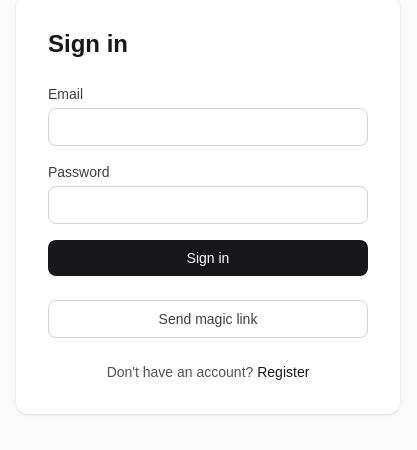
it: LoginPage › displays a form-level error when sign-in fails
Type "alice@example.com" into the field labelled "Email" at (208, 127), box [48,108,368,146]
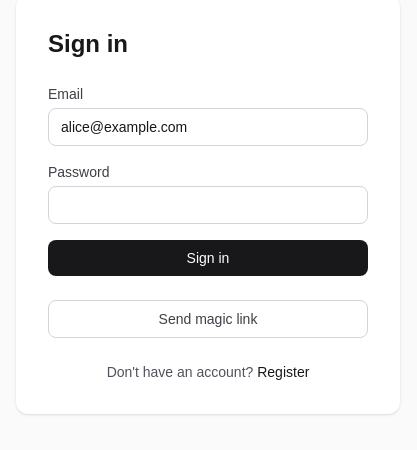
Type "wrongpassword" into the password field labelled "Password" at (208, 205), box [48,186,368,224]
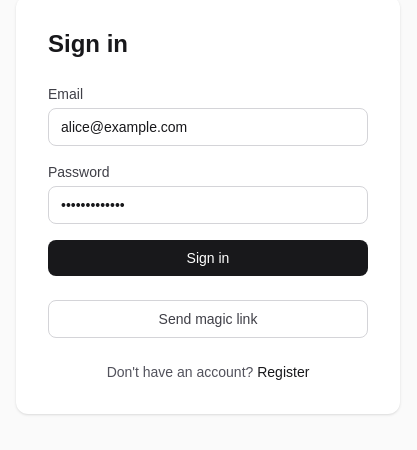
Click the button "Sign in" at (208, 258), box [48,240,368,276]
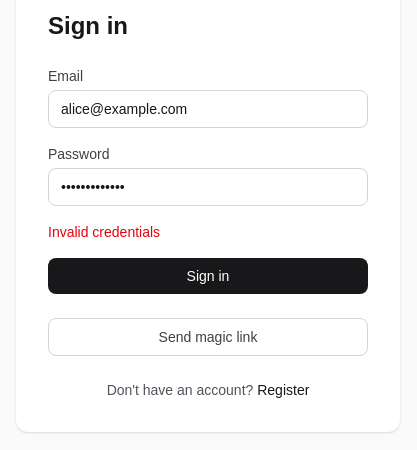
Now the text "Invalid credentials" is shown, box [48,224,160,240]
